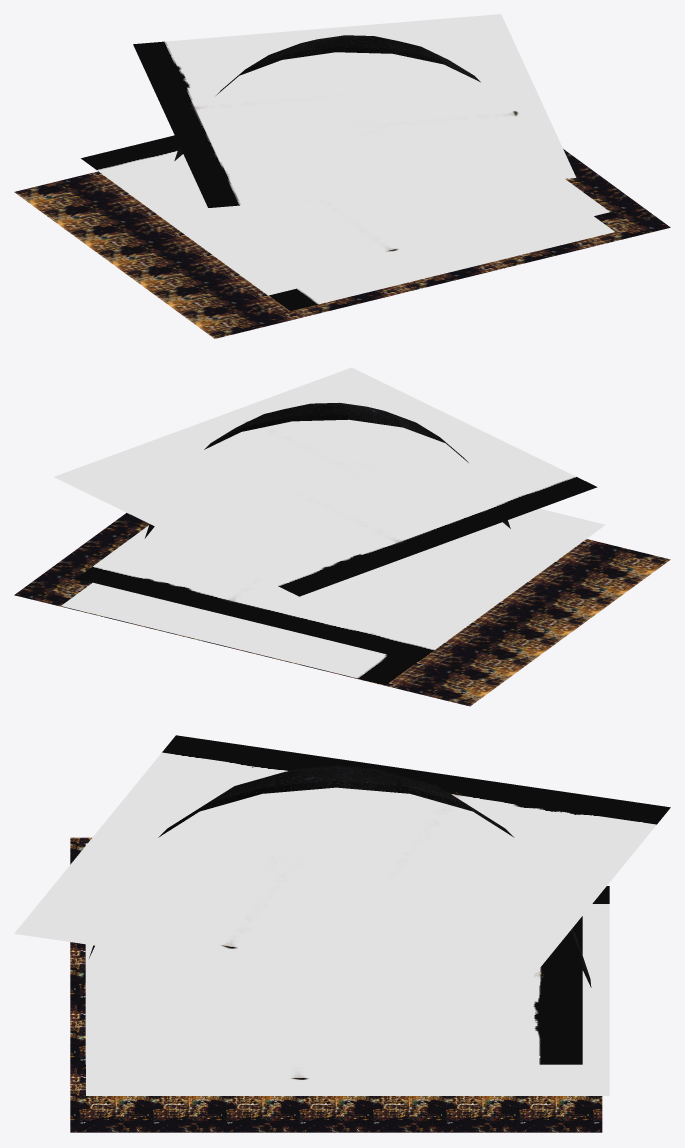
File: AboveTheCity.fbx
3 views of the same model, one above another, from view 1: azimuth 30°, elevation 25°; view 2: azimuth 150°, elevation 25°; view 3: azimuth 270°, elevation 25° (orthographic). The views are drawn at different scales.
Parts seen in each view (by area): view 1: fog01.002, fog01, Plane, fog01.001, Sphere; view 2: fog01.002, fog01, Plane, fog01.001, Sphere; view 3: fog01.002, fog01, Plane, fog01.001, Sphere.
Boxes of the visible parts, x1,y1,x2,y2 form: fog01.002: (133,14,576,207); fog01: (81,135,609,295); Plane: (14,149,670,338); fog01.001: (269,216,614,311); Sphere: (174,35,480,160); fog01.002: (54,367,597,596); fog01: (76,508,605,661); Plane: (14,513,670,706); fog01.001: (61,582,416,685); Sphere: (144,402,510,538); fog01.002: (14,735,670,1005); fog01: (85,843,582,1064); Plane: (70,837,602,1132); fog01.001: (86,886,609,1095); Sphere: (80,765,591,992).
Bounding box in the file's own units: 175317 × 65073 × 165055.
Materials: 10 (9 with a texture image).
